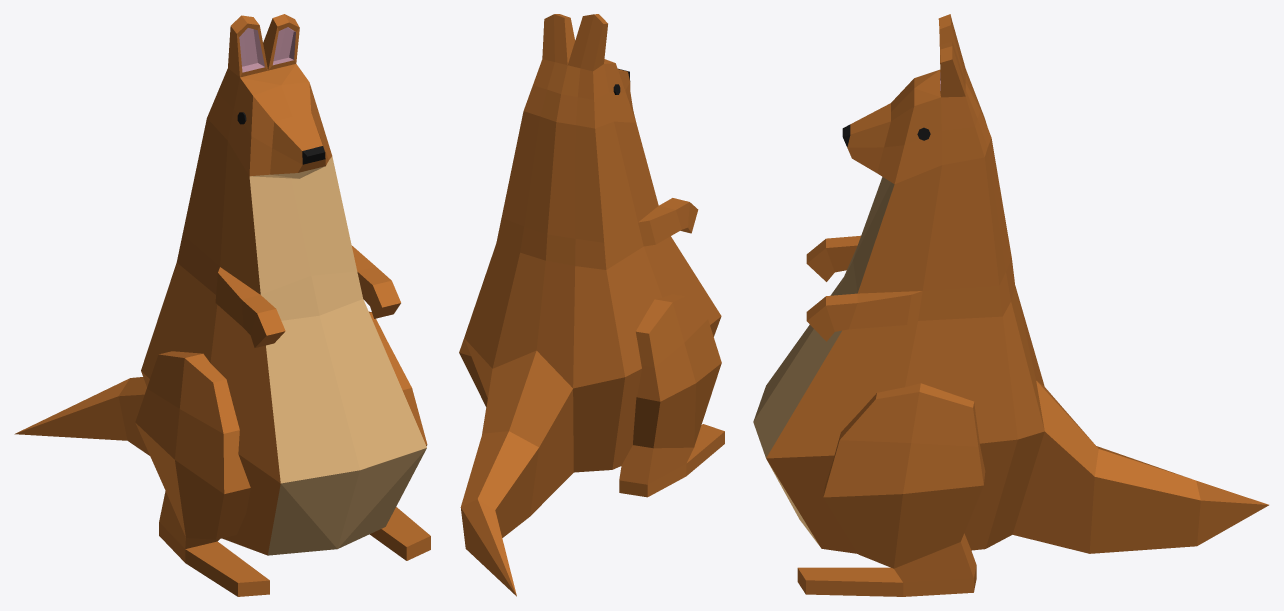
Rendered from Kangaroo_01.fbx.
3 renders of one model, left to right at view 1: azimuth 30°, elevation 25°; view 2: azimuth 150°, elevation 25°; view 3: azimuth 270°, elevation 25°, orthographic. The views are drawn at different scales.
Parts seen in each view (by area): view 1: Kangaroo_01; view 2: Kangaroo_01; view 3: Kangaroo_01.
Part boxes in pixels (x1,y1,x2,y2): Kangaroo_01: [14, 14, 430, 596]; Kangaroo_01: [459, 14, 724, 596]; Kangaroo_01: [753, 14, 1268, 596].
Bounding box in the file's own units: 6.39 × 14.07 × 12.52.
